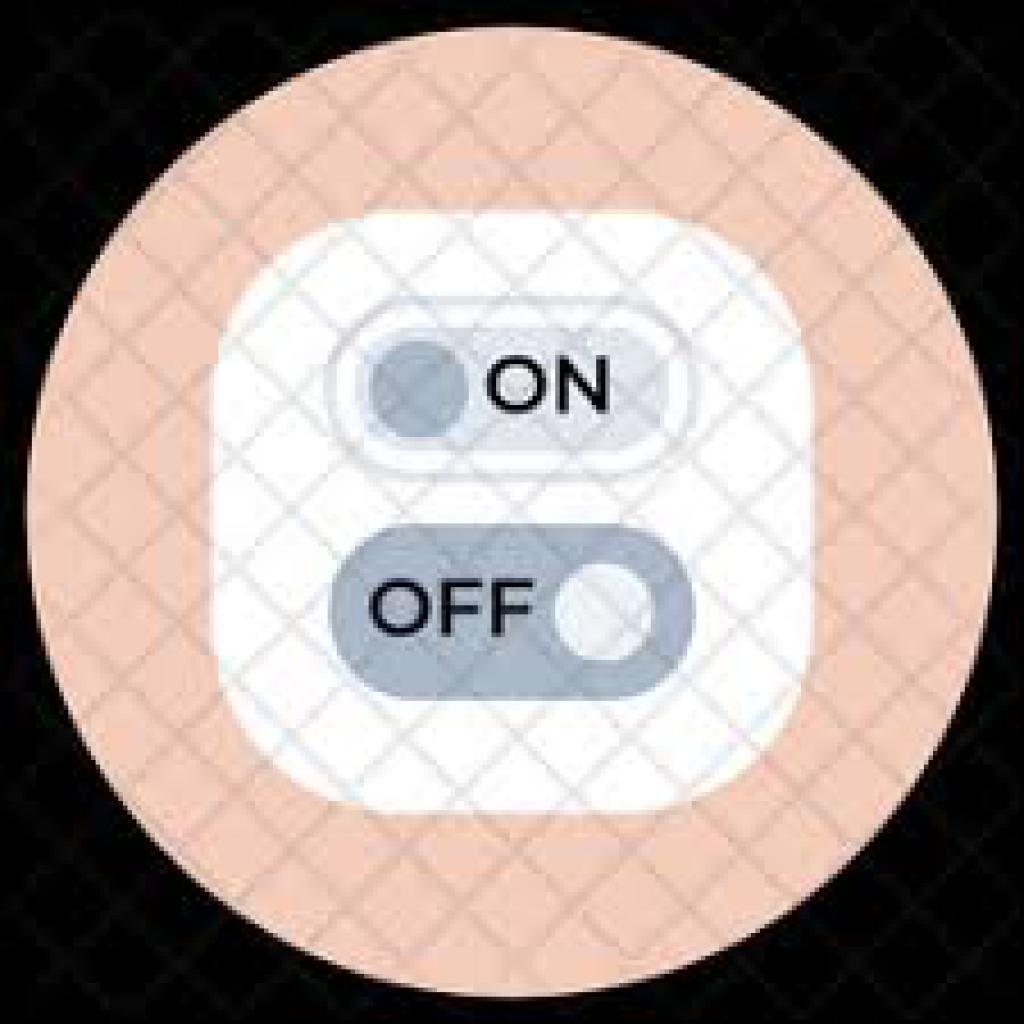switch: (321, 516, 706, 706), (330, 310, 708, 489)
